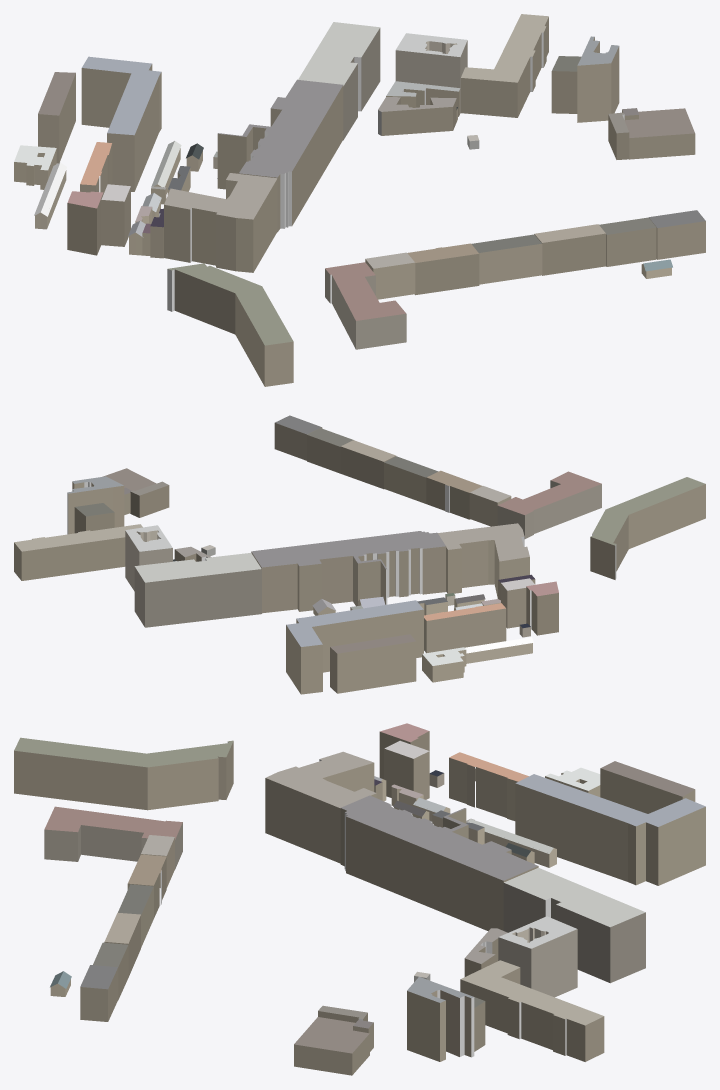
3 views of the same model, one above another, from view 1: azimuth 30°, elevation 25°; view 2: azimuth 150°, elevation 25°; view 3: azimuth 270°, elevation 25° (orthographic). The views are drawn at different scales.
Parts seen in each view (by area): view 1: tuile; view 2: tuile; view 3: tuile.
Boxes of the visible parts, x1,y1,x2,y2 form: tuile: (14, 14, 705, 386); tuile: (14, 415, 705, 694); tuile: (14, 723, 705, 1075).
Size of the model in its own units: 269 by 27.57 by 262.
